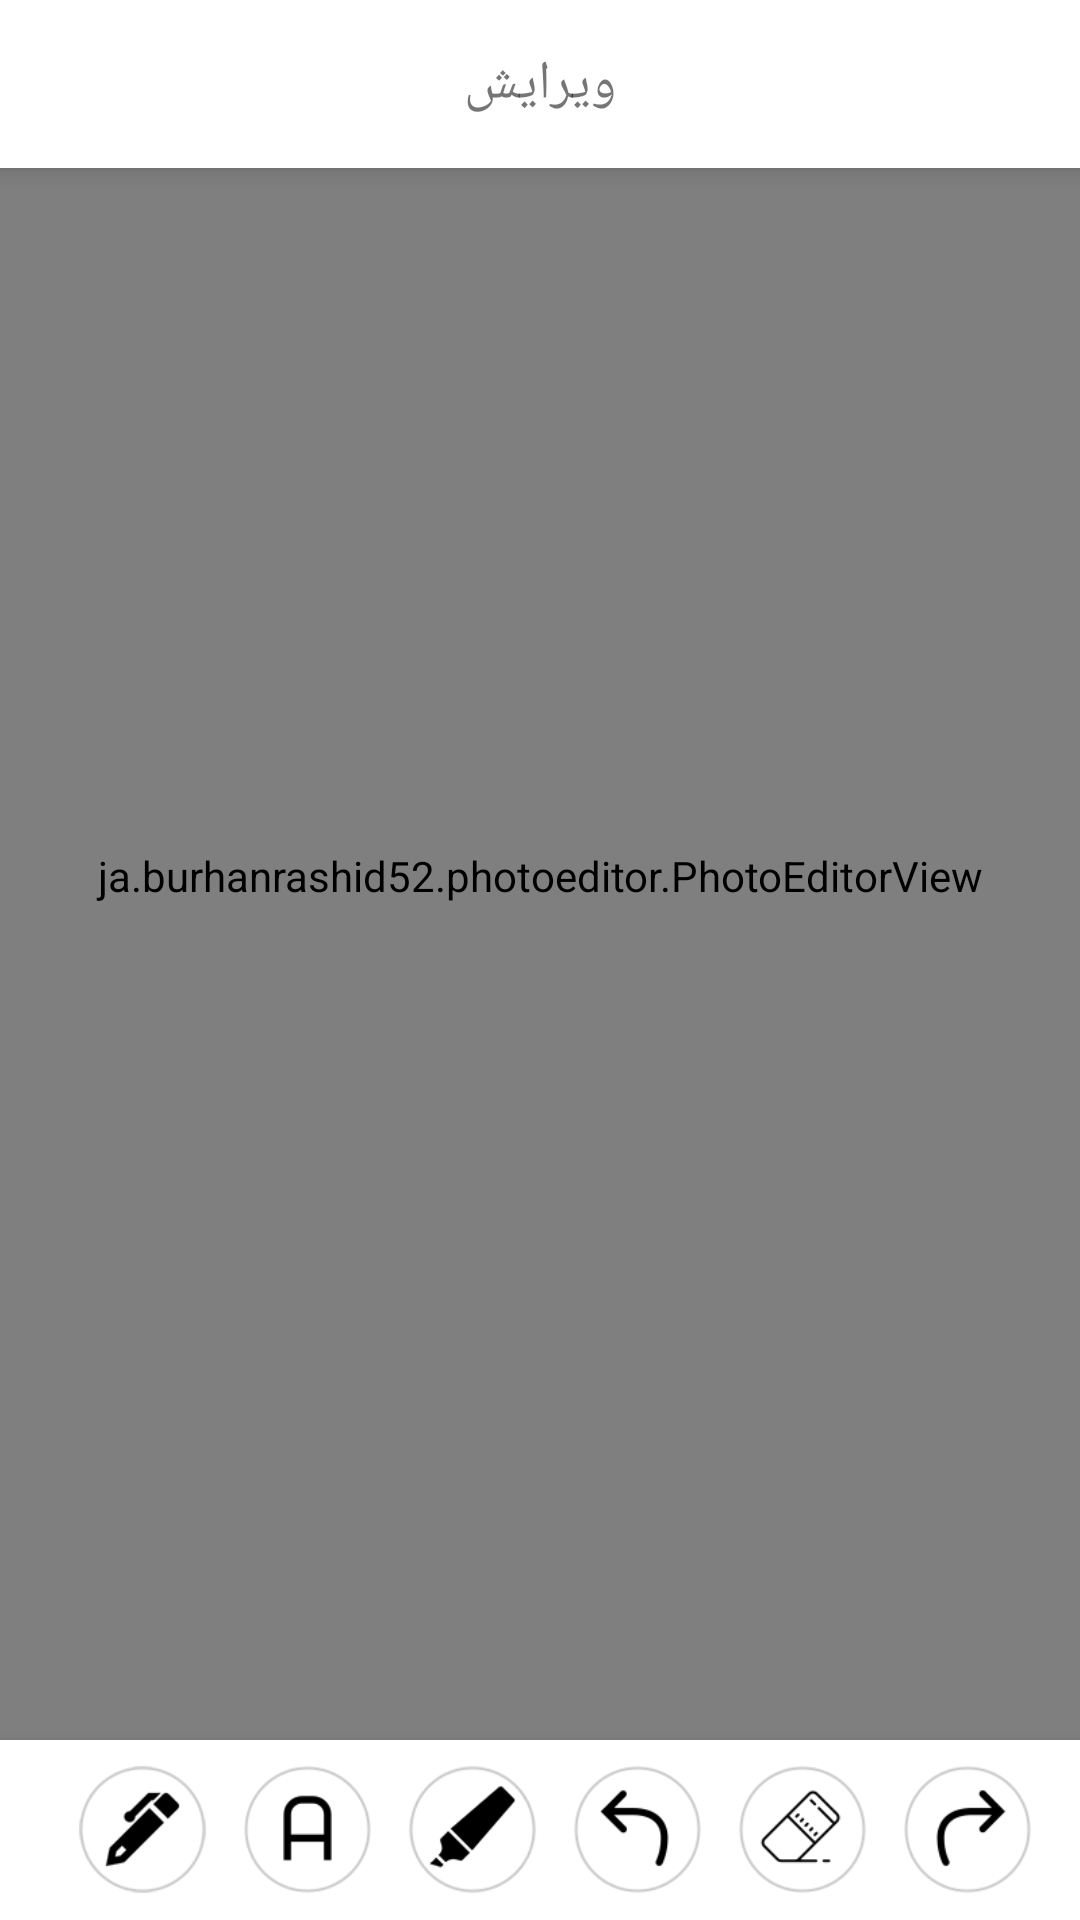

Screen size 1080x1920. Icon name, then its box in pixels as (x1, y1, x2, y2):
eraser: (740, 1767, 865, 1892)
marker pen: (409, 1766, 536, 1893)
pen: (79, 1766, 206, 1893)
redo: (905, 1767, 1030, 1892)
undo: (575, 1767, 700, 1892)
